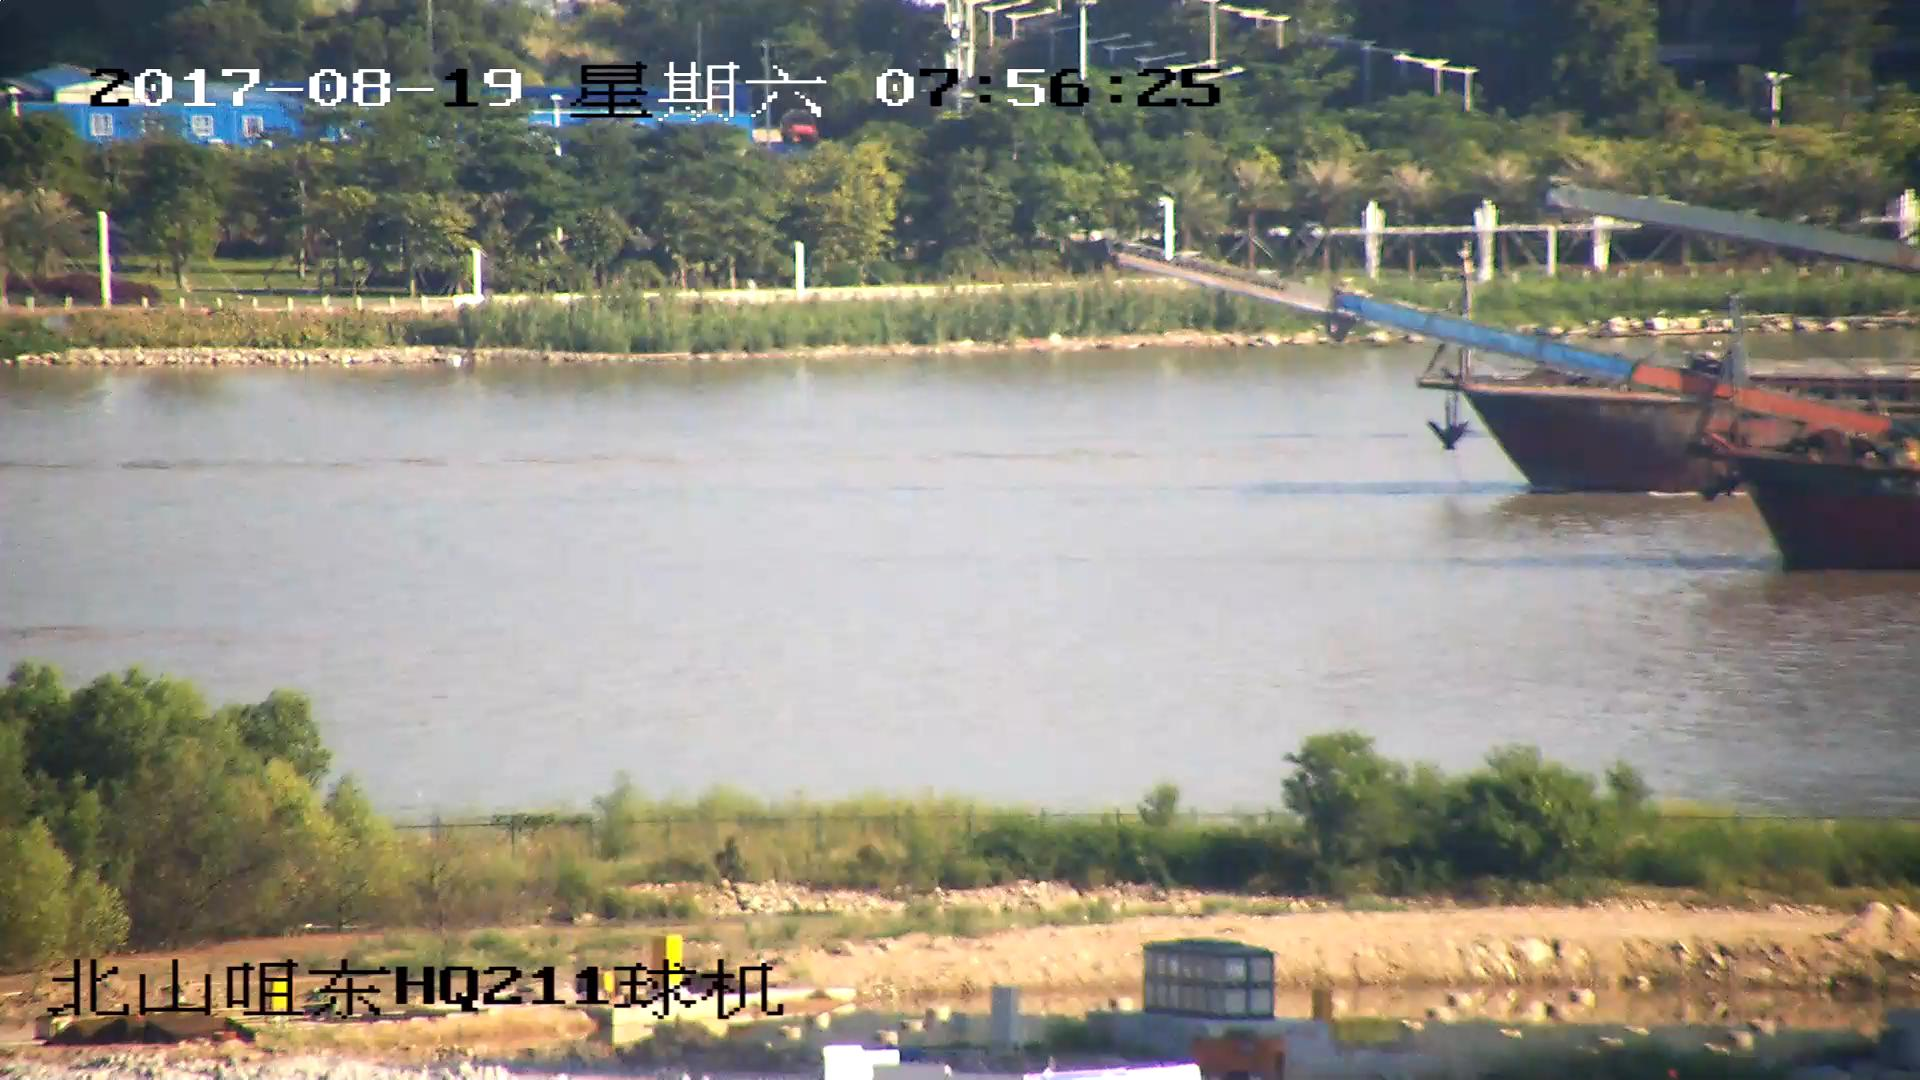bulk cargo carrier: (1104, 240, 1718, 502), (1337, 300, 1920, 572), (1559, 186, 1920, 299)
